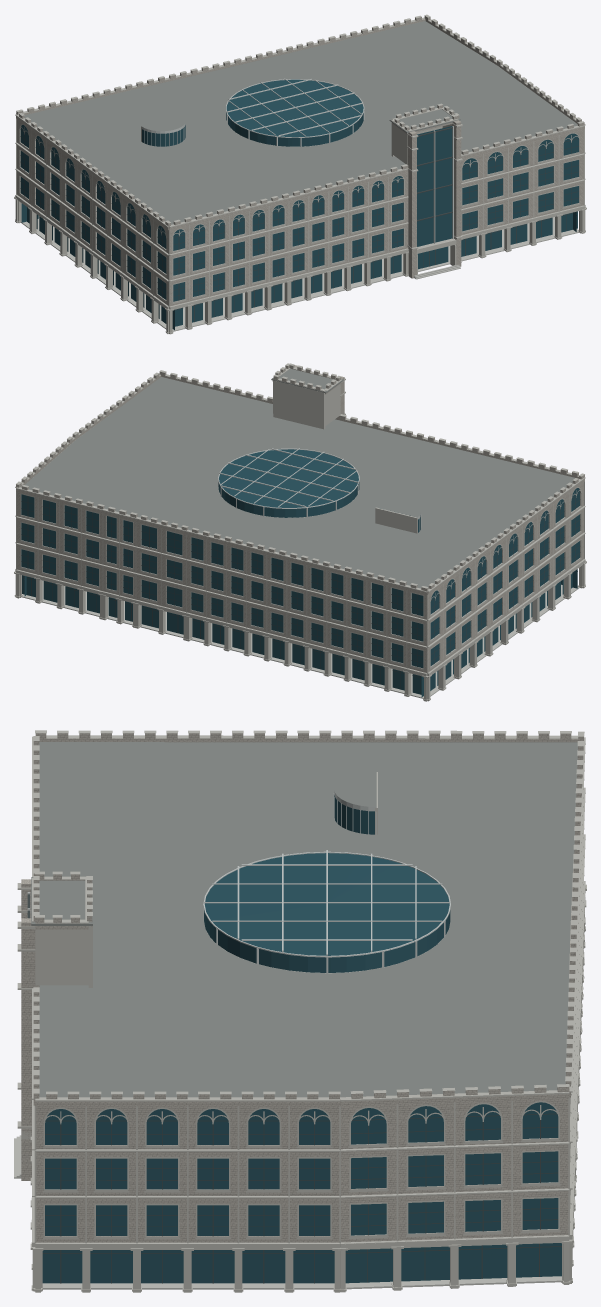
3 views of the same model, one above another, from view 1: azimuth 30°, elevation 25°; view 2: azimuth 150°, elevation 25°; view 3: azimuth 270°, elevation 25° (orthographic). The views are drawn at different scales.
Parts seen in each view (by area): view 1: centennialSamsung__roof, centennialSamsung__glass, centennialSamsung__stone, centennialSamsung__cream, centennialSamsung__frame, centennialSamsung__rough, centennialSamsung__light; view 2: centennialSamsung__roof, centennialSamsung__glass, centennialSamsung__cream, centennialSamsung__stone, centennialSamsung__frame, centennialSamsung__rough, centennialSamsung__light; view 3: centennialSamsung__roof, centennialSamsung__glass, centennialSamsung__stone, centennialSamsung__cream, centennialSamsung__light, centennialSamsung__frame, centennialSamsung__rough.
Boxes of the visible parts, x1,y1,x2,y2 form: centennialSamsung__roof: (24,21,577,224); centennialSamsung__glass: (20,79,578,330); centennialSamsung__stone: (16,16,584,306); centennialSamsung__cream: (14,14,586,334); centennialSamsung__frame: (20,127,578,321); centennialSamsung__rough: (21,217,579,331); centennialSamsung__light: (141,78,453,243); centennialSamsung__roof: (25,368,574,588); centennialSamsung__glass: (21,449,579,697); centennialSamsung__cream: (14,363,586,701); centennialSamsung__stone: (16,365,584,672); centennialSamsung__frame: (21,492,580,694); centennialSamsung__rough: (21,580,579,698); centennialSamsung__light: (218,448,421,531); centennialSamsung__roof: (31,742,577,1097); centennialSamsung__glass: (42,795,561,1283); centennialSamsung__stone: (21,733,583,1242); centennialSamsung__cream: (17,730,586,1292); centennialSamsung__light: (27,791,450,973); centennialSamsung__frame: (27,894,561,1283); centennialSamsung__rough: (14,1135,561,1289).
Bounding box in the file's own units: 87.85 × 29.66 × 58.13.
Materials: 7 (1 with a texture image).
